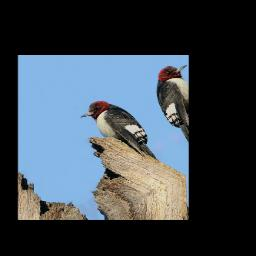Woodpecker: (76, 90, 163, 178)
